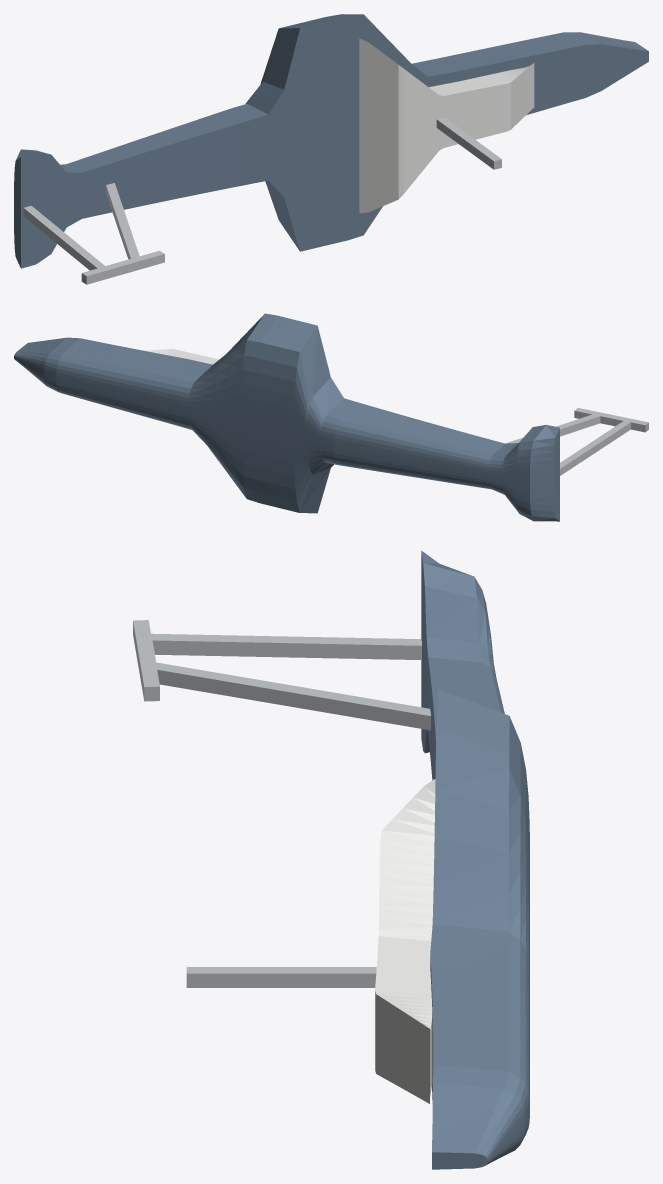
Rendered from loft-wing-in-ground-sheered.glb.
The picture shows the model from 3 angles, top to bottom: view 1: azimuth 30°, elevation 25°; view 2: azimuth 150°, elevation 25°; view 3: azimuth 270°, elevation 25°; orthographic projection. The views are drawn at different scales.
Parts seen in each view (by area): view 1: loft-wing-in-ground-sheered; view 2: loft-wing-in-ground-sheered; view 3: loft-wing-in-ground-sheered.
Boxes of the visible parts, <box> form: loft-wing-in-ground-sheered: <box>14,14,648,284</box>; loft-wing-in-ground-sheered: <box>14,313,648,521</box>; loft-wing-in-ground-sheered: <box>133,550,529,1169</box>.
Bounding box in the file's own units: 1.92 × 0.63 × 0.6037.
